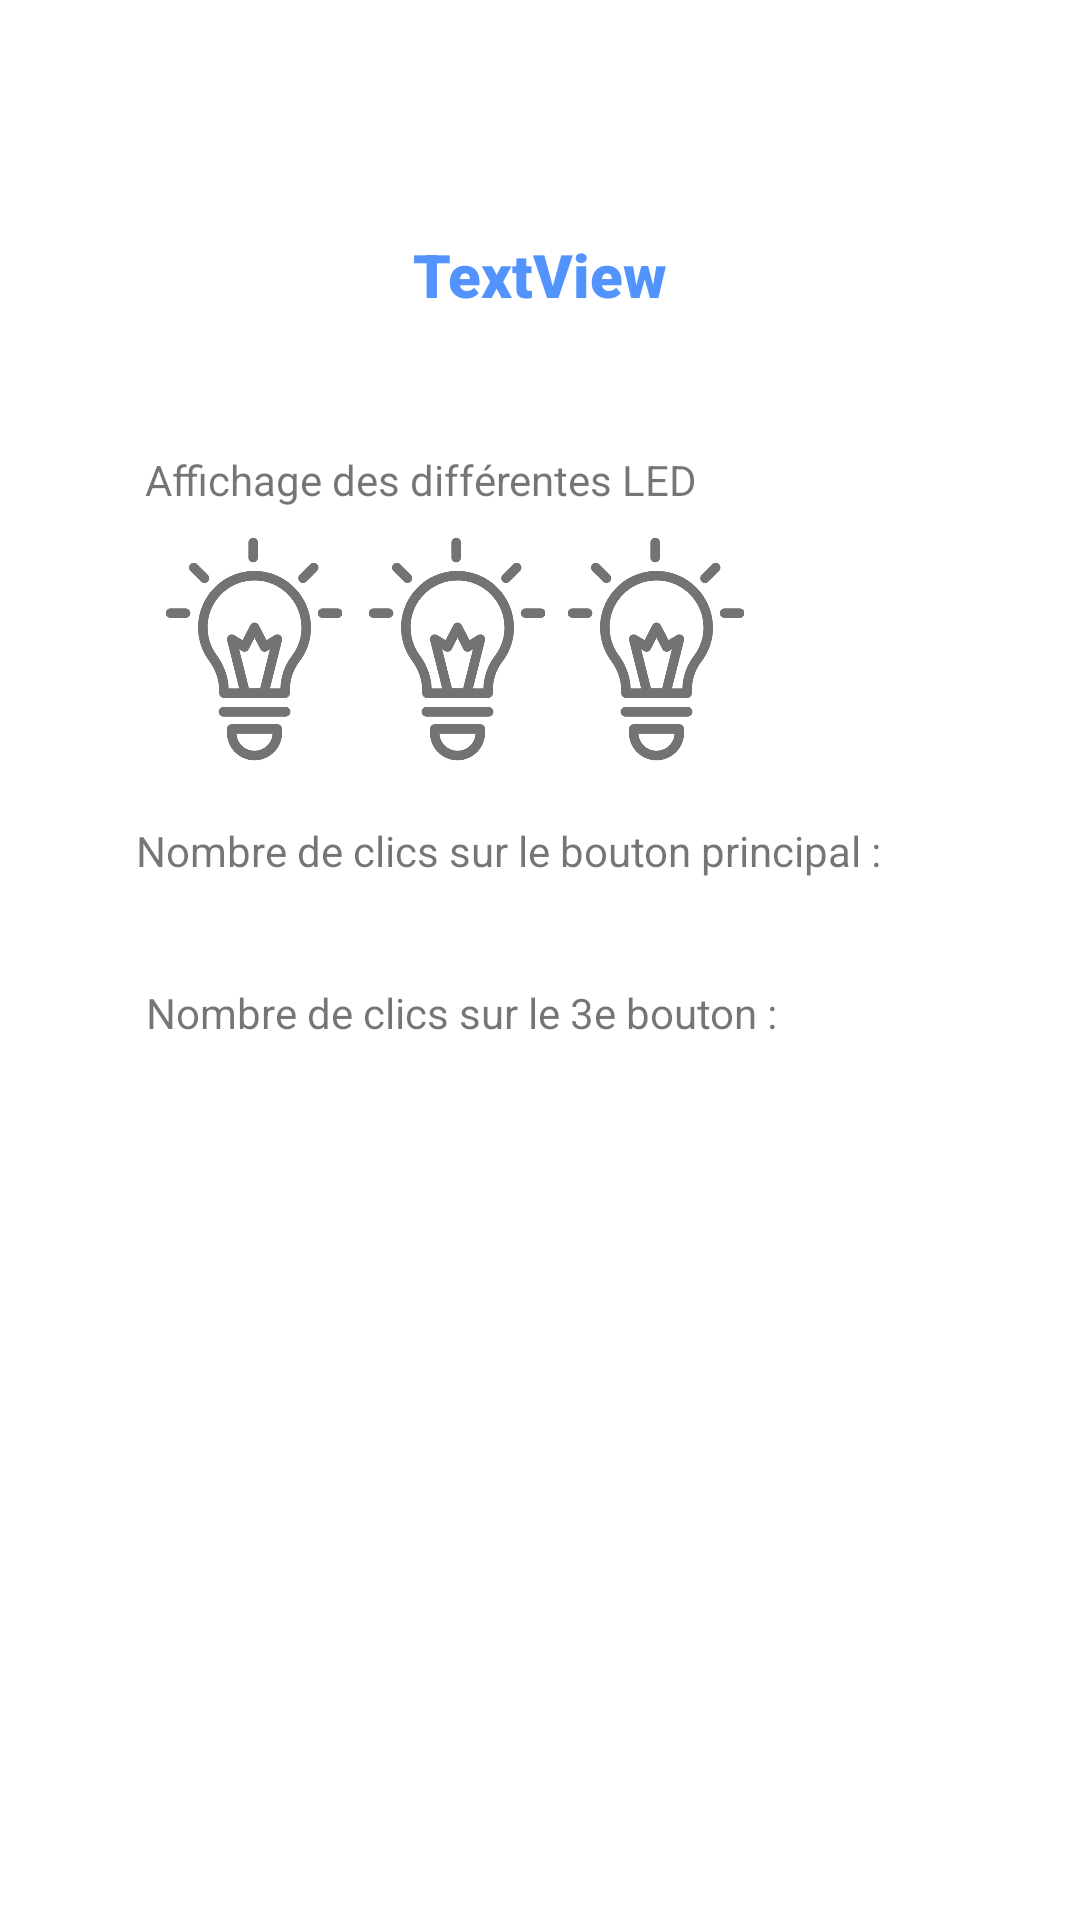

Icon bounding boxes for this 1080 x 1920 phone screenshot, format bbox=[x1, y1, x2, y2]:
bulb: bbox=[166, 538, 342, 761], bbox=[369, 538, 545, 761], bbox=[568, 538, 744, 761]
